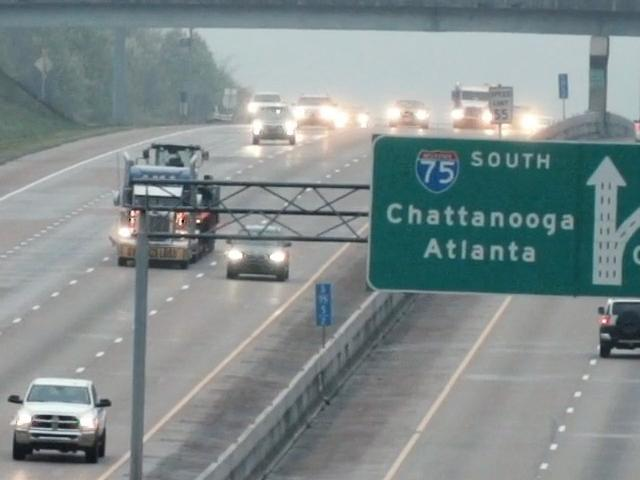car: (10, 373, 115, 470), (220, 222, 295, 280), (593, 296, 640, 366), (249, 109, 300, 151), (297, 97, 339, 129), (247, 90, 286, 113), (396, 99, 430, 124)
truck: (110, 135, 215, 264), (449, 87, 497, 124)
